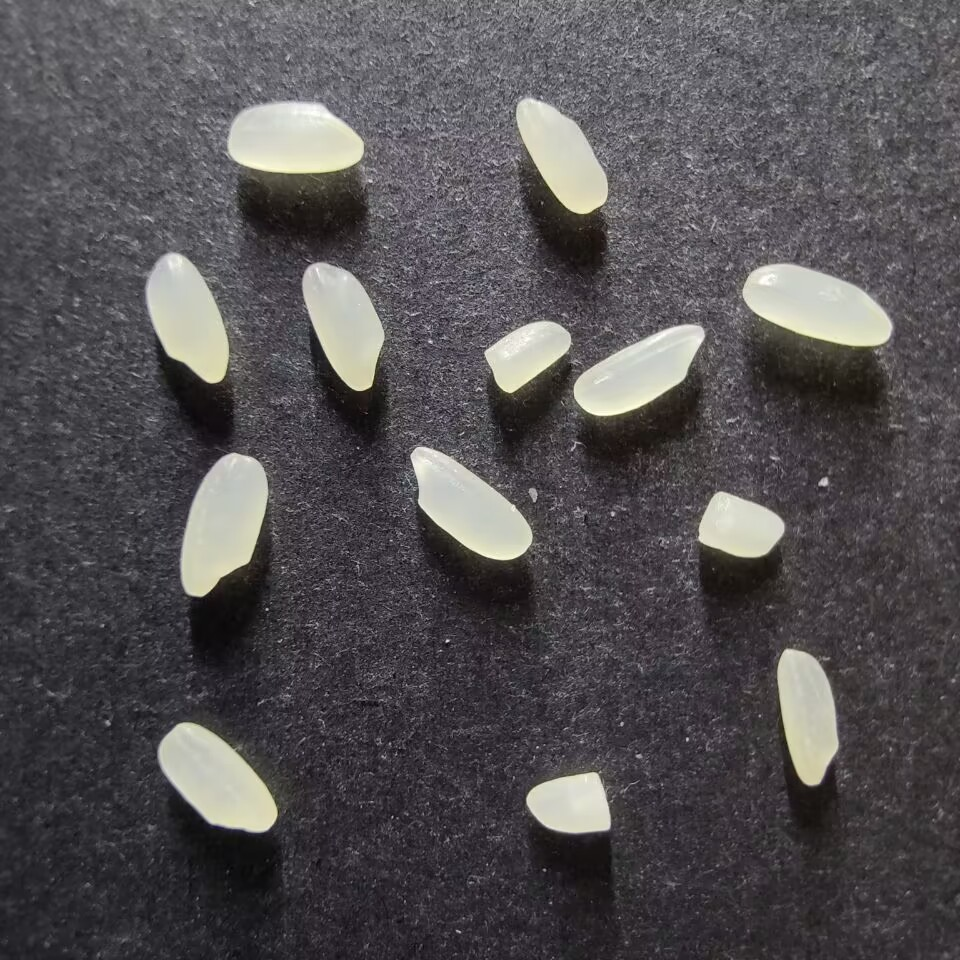broken: (483, 320, 571, 394), (697, 489, 784, 559), (525, 771, 611, 833)
rice: (409, 446, 532, 560), (156, 721, 278, 834), (178, 453, 268, 597), (741, 263, 891, 347), (572, 322, 704, 416), (145, 252, 229, 385), (514, 98, 609, 214), (301, 261, 384, 392), (226, 102, 363, 174), (775, 648, 839, 786)
